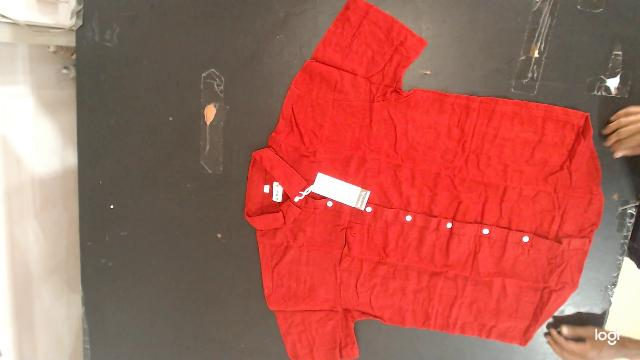new-garment: (245, 0, 603, 360)
